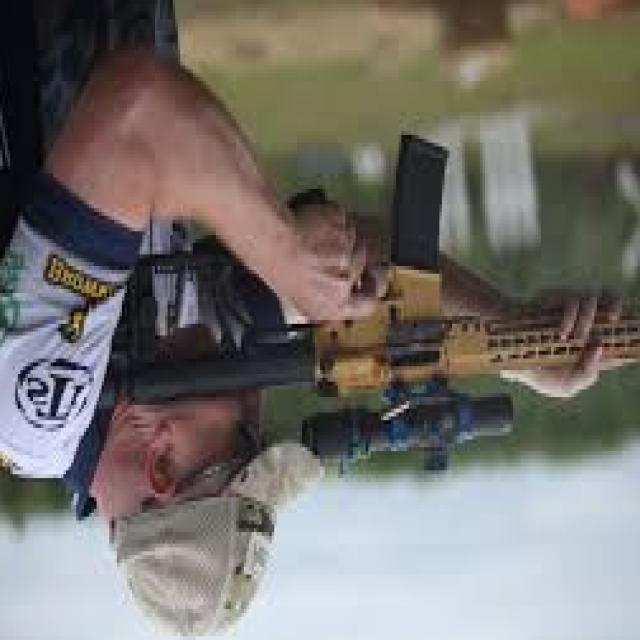gun: (109, 112, 640, 520)
